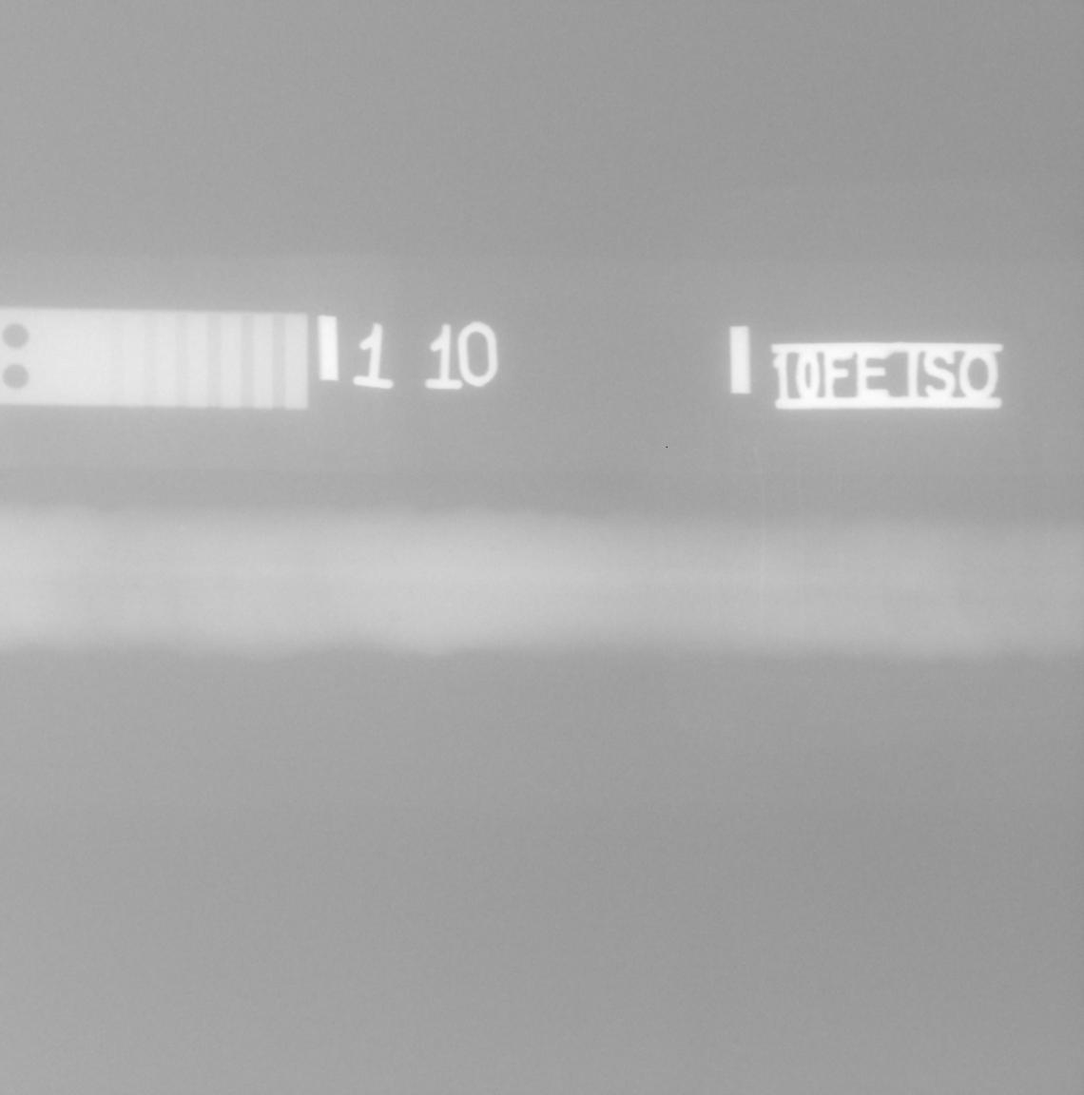Pore/Porosity: (386, 610, 405, 622), (488, 543, 498, 551)
